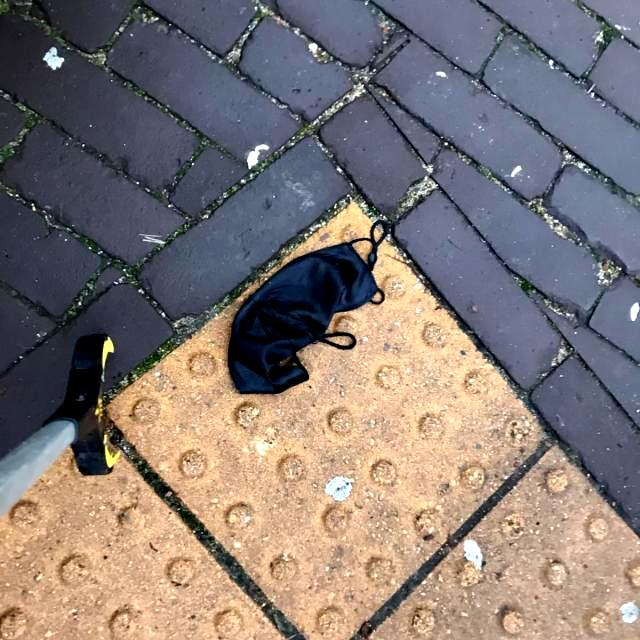Mask: (226, 218, 390, 398)
